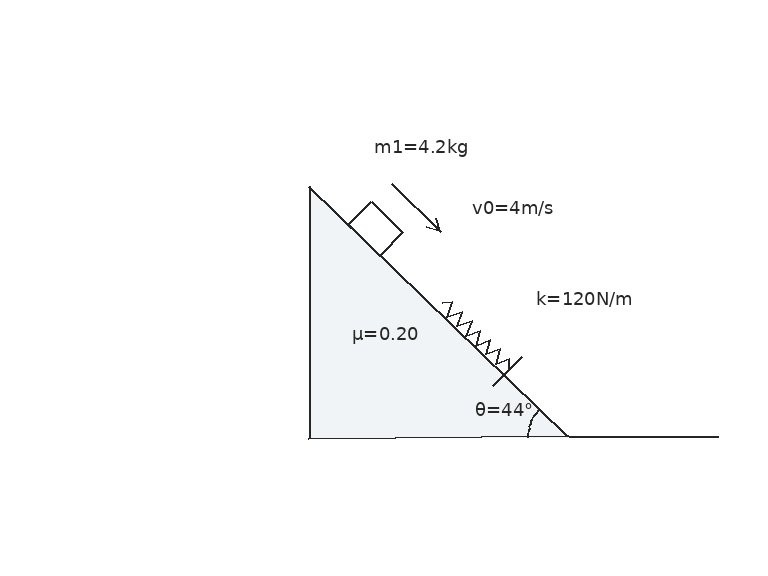block: (346, 199, 404, 257)
ramp: (307, 185, 570, 439)
spring: (440, 301, 512, 370)
